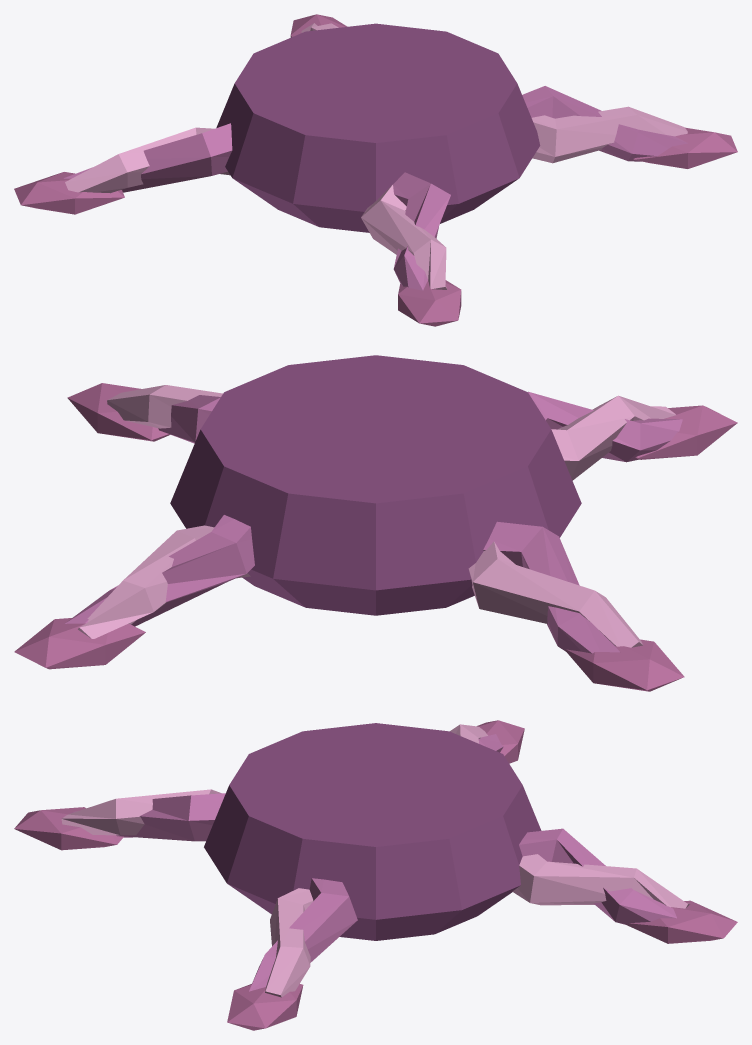
File: OrchidTetherRoots.glb
3 renders of one model, top to bottom at view 1: azimuth 30°, elevation 25°; view 2: azimuth 150°, elevation 25°; view 3: azimuth 270°, elevation 25°, orthographic. The views are drawn at different scales.
Visible parts, largest first — view 1: OrchidTetherRoots_OrchidTetherCrown, OrchidTetherRoots_OrchidTetherTwists, OrchidTetherRoots_OrchidTethers, OrchidTetherRoots_OrchidRootPads; view 2: OrchidTetherRoots_OrchidTetherCrown, OrchidTetherRoots_OrchidTetherTwists, OrchidTetherRoots_OrchidTethers, OrchidTetherRoots_OrchidRootPads; view 3: OrchidTetherRoots_OrchidTetherCrown, OrchidTetherRoots_OrchidTetherTwists, OrchidTetherRoots_OrchidTethers, OrchidTetherRoots_OrchidRootPads.
Boxes of the visible parts, box(x1,y1,x2,y2) form: OrchidTetherRoots_OrchidTetherCrown: box(216, 23, 540, 232); OrchidTetherRoots_OrchidTetherTwists: box(65, 23, 687, 289); OrchidTetherRoots_OrchidTethers: box(64, 86, 687, 290); OrchidTetherRoots_OrchidRootPads: box(14, 14, 737, 326); OrchidTetherRoots_OrchidTetherCrown: box(170, 355, 581, 615); OrchidTetherRoots_OrchidTetherTwists: box(78, 385, 675, 647); OrchidTetherRoots_OrchidTethers: box(64, 391, 682, 653); OrchidTetherRoots_OrchidRootPads: box(14, 383, 737, 691); OrchidTetherRoots_OrchidTetherCrown: box(204, 723, 541, 940); OrchidTetherRoots_OrchidTetherTwists: box(61, 724, 689, 997); OrchidTetherRoots_OrchidTethers: box(71, 734, 676, 991); OrchidTetherRoots_OrchidRootPads: box(14, 720, 737, 1030).
Bounding box in the file's own units: 3.7 × 0.6 × 3.7.
